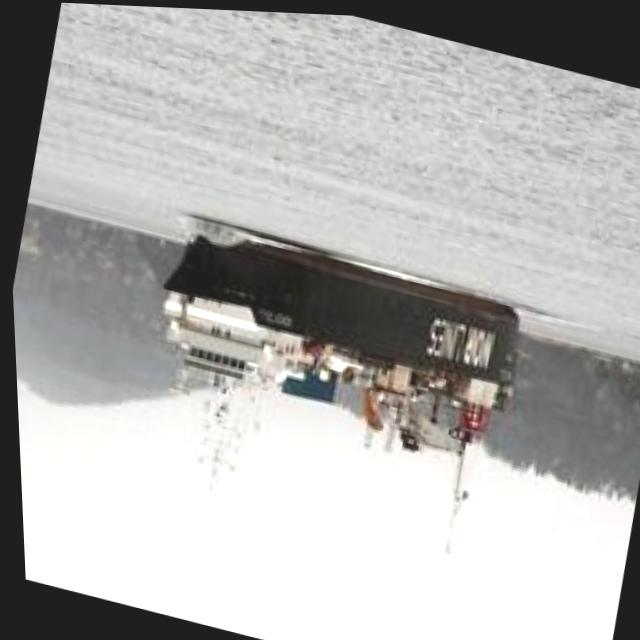ship2: (156, 231, 518, 551)
